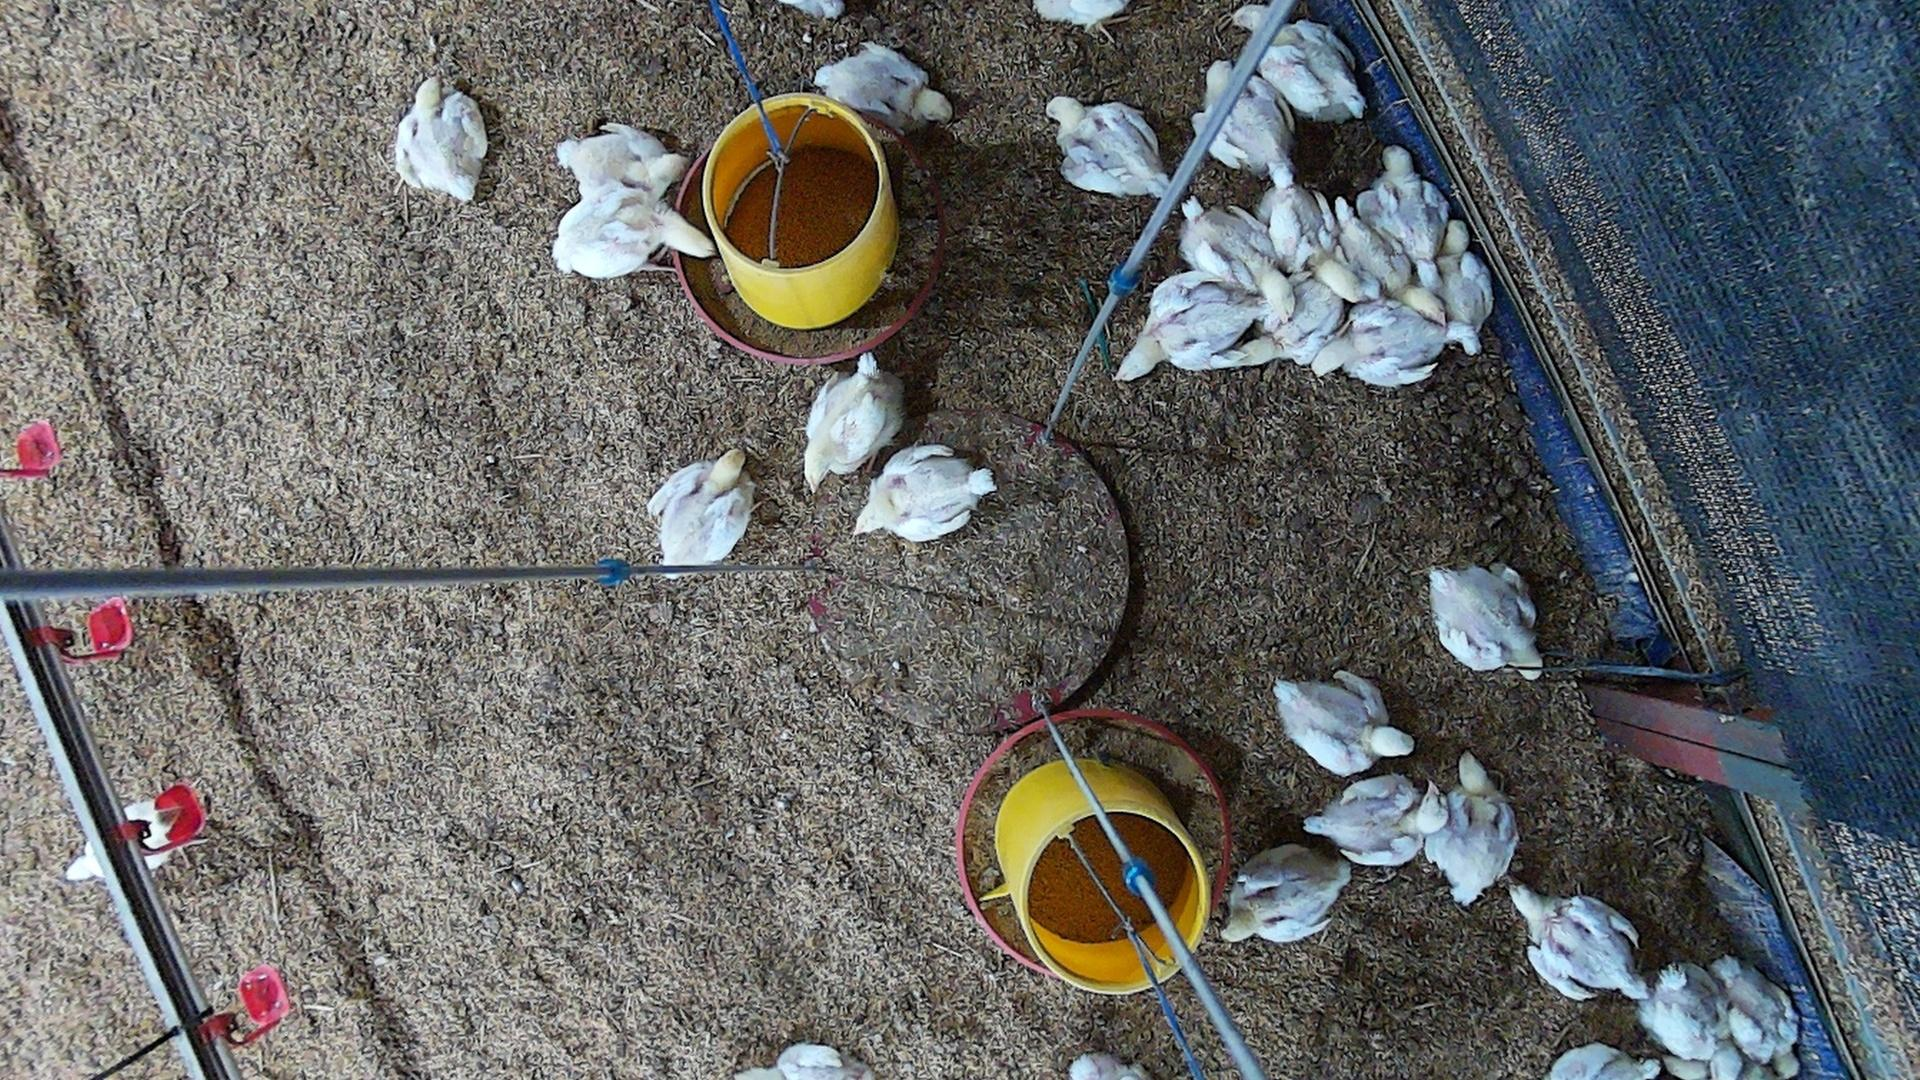ayam_broiler: (553, 182, 716, 280), (1510, 885, 1646, 1001), (1176, 195, 1295, 324), (1234, 4, 1364, 120), (1117, 274, 1261, 378), (1312, 299, 1481, 388), (1333, 196, 1447, 326), (1424, 750, 1519, 903), (1275, 673, 1415, 774), (1354, 148, 1452, 293), (803, 352, 901, 491), (856, 444, 994, 541), (1255, 185, 1367, 303), (1193, 61, 1295, 189), (1304, 774, 1443, 866), (1225, 843, 1353, 942), (1048, 95, 1172, 194), (650, 448, 752, 567), (1429, 564, 1540, 673), (392, 78, 488, 202), (1640, 965, 1743, 1080), (555, 123, 692, 203), (815, 42, 947, 124), (1238, 272, 1346, 368), (1717, 959, 1799, 1077), (1439, 219, 1493, 334)
